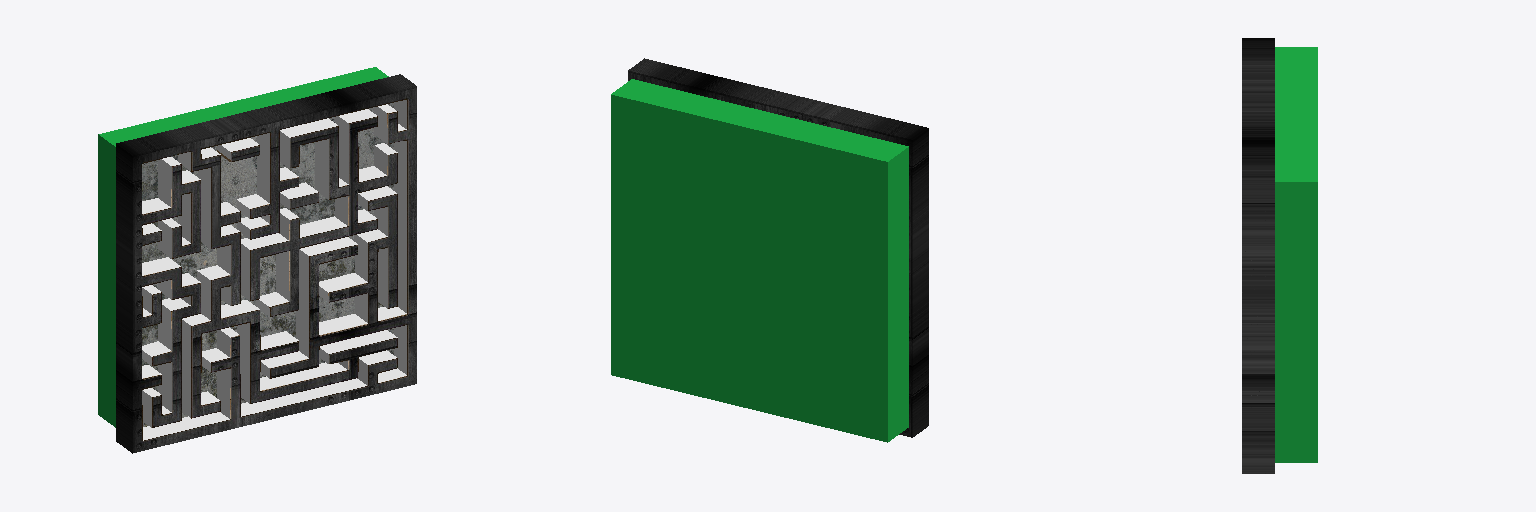
3 renders of one model, left to right at view 1: azimuth 30°, elevation 25°; view 2: azimuth 150°, elevation 25°; view 3: azimuth 270°, elevation 25°, orthographic.
Visible parts, largest first — view 1: Object.1, Object.5, Object.3, Object.4, Object.2; view 2: Object.5, Object.1; view 3: Object.5, Object.1.
Part boxes in pixels (bbox=[...]): Object.1: bbox=[116, 74, 416, 453]; Object.5: bbox=[98, 67, 393, 427]; Object.3: bbox=[241, 109, 397, 316]; Object.4: bbox=[280, 182, 318, 209]; Object.2: bbox=[217, 138, 259, 161]; Object.5: bbox=[611, 79, 908, 442]; Object.1: bbox=[628, 58, 928, 437]; Object.5: bbox=[1275, 47, 1317, 462]; Object.1: bbox=[1242, 38, 1274, 473].
Bounding box in the file's own units: 1044 × 1044 × 240.
Materials: 4 (2 with a texture image).